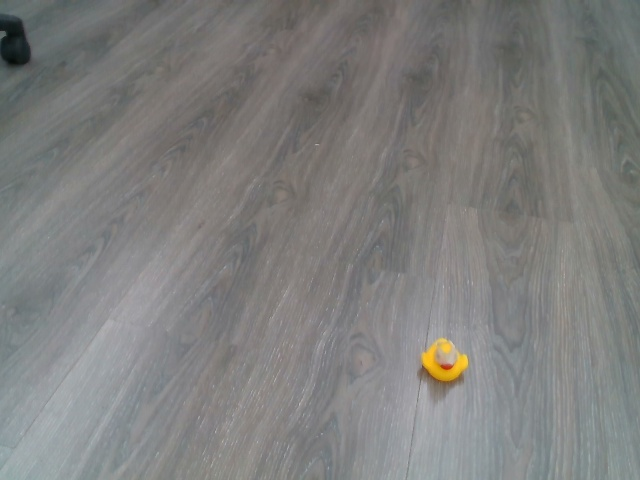duck: (421, 335, 471, 384)
